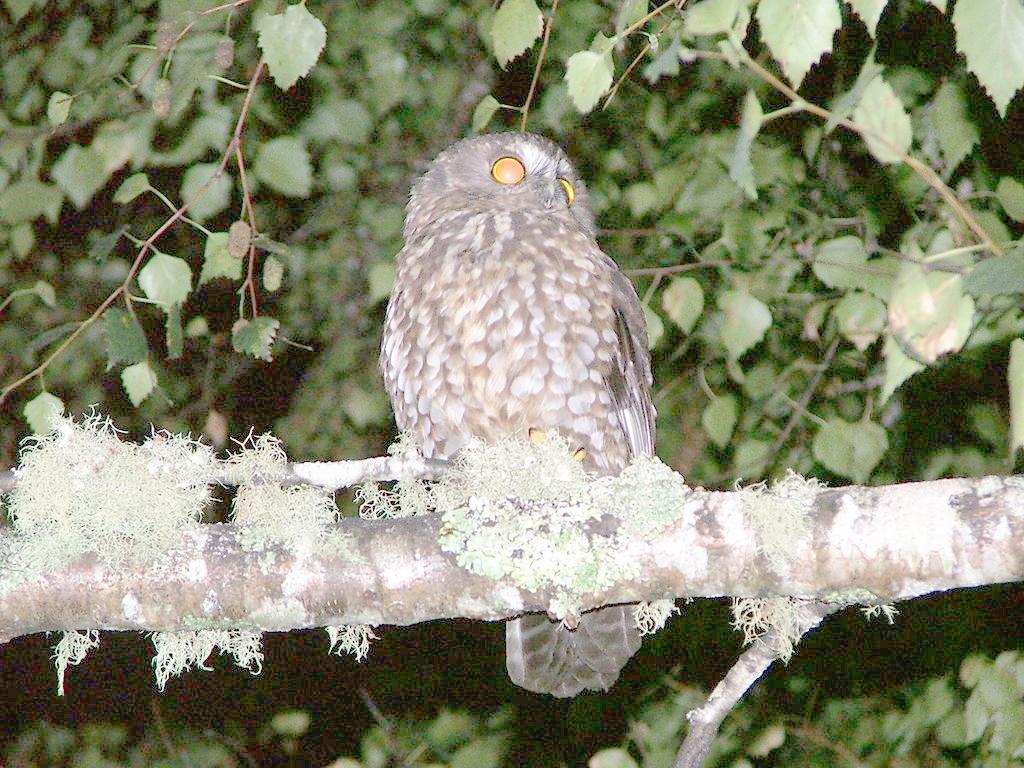Owl: (373, 130, 667, 538)
